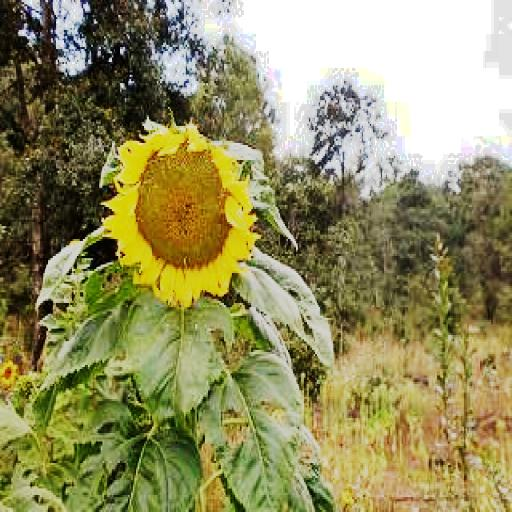sunflower: (107, 130, 256, 307)
